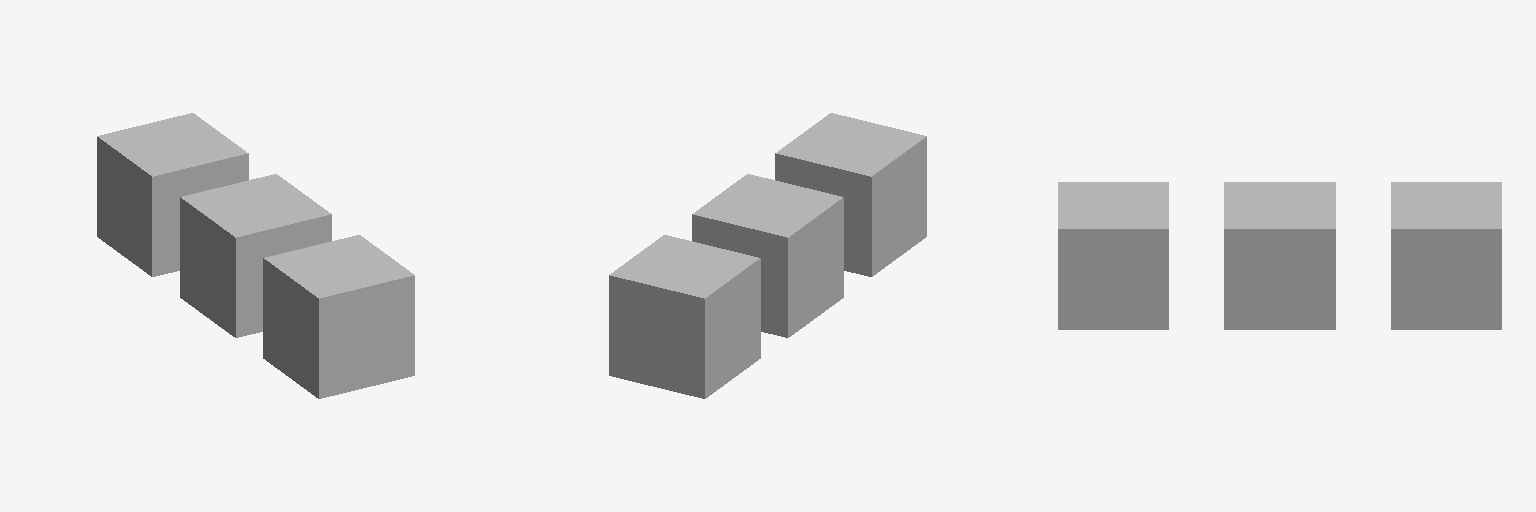
Rendered from OBJTest.obj.
3 views of the same model, side by side, from view 1: azimuth 30°, elevation 25°; view 2: azimuth 150°, elevation 25°; view 3: azimuth 270°, elevation 25° (orthographic).
Parts seen in each view (by area): view 1: Cube, Cube.002, Cube.001; view 2: Cube.002, Cube, Cube.001; view 3: Cube.001, Cube.002, Cube.
Boxes of the visible parts, box(x1,y1,x2,y2) form: Cube: box(263, 235, 414, 398); Cube.002: box(97, 113, 248, 276); Cube.001: box(180, 174, 331, 337); Cube.002: box(609, 235, 760, 398); Cube: box(775, 113, 926, 276); Cube.001: box(692, 174, 843, 337); Cube.001: box(1224, 182, 1335, 329); Cube.002: box(1391, 182, 1501, 329); Cube: box(1058, 182, 1168, 329).
Size of the model in its own units: 2 by 2 by 8.